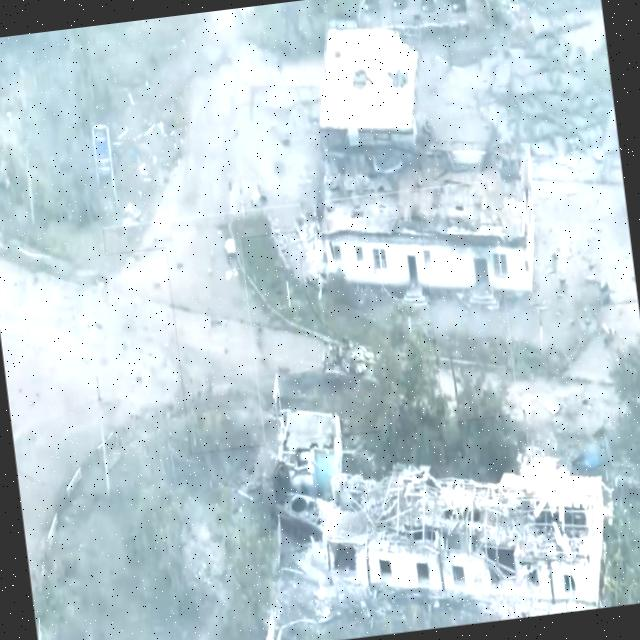Destroyed: (269, 466, 332, 543)
MBT: (318, 332, 399, 402)
